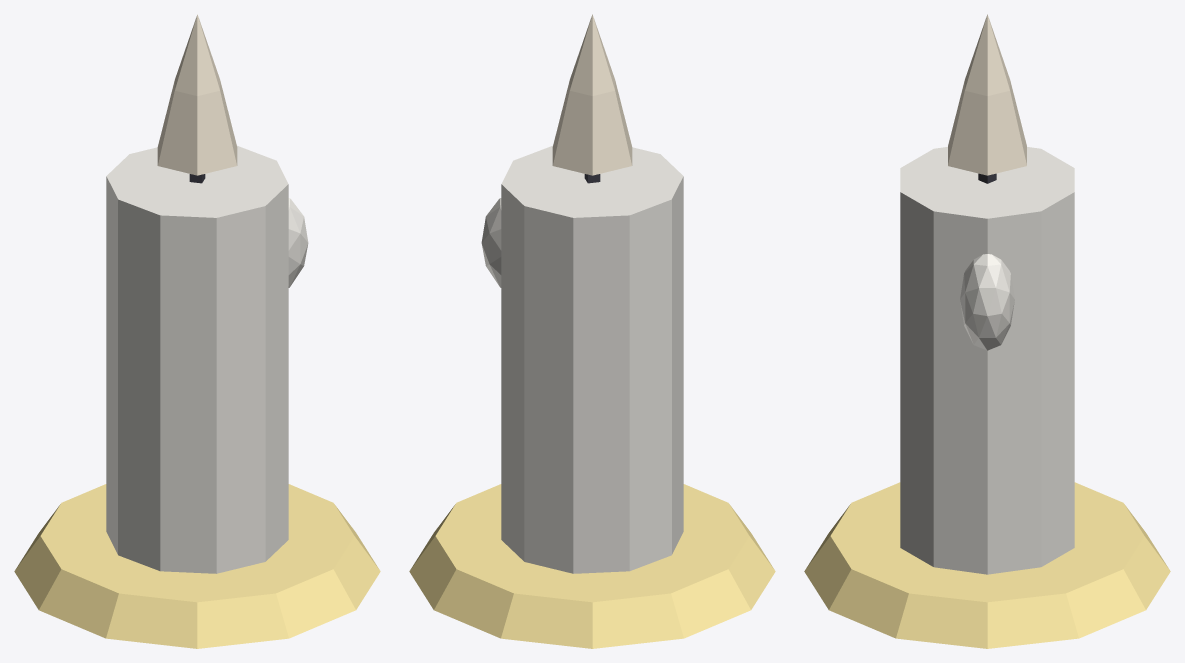
Rendered from deco_candle.obj.
The picture shows the model from 3 angles, left to right: view 1: azimuth 30°, elevation 25°; view 2: azimuth 150°, elevation 25°; view 3: azimuth 270°, elevation 25°; orthographic projection.
Parts seen in each view (by area): view 1: deco_candle; view 2: deco_candle; view 3: deco_candle.
Boxes of the visible parts, <box> form: deco_candle: <box>14,14,380,648</box>; deco_candle: <box>409,14,775,648</box>; deco_candle: <box>804,14,1170,648</box>.
Bounding box in the file's own units: 0.028 × 0.047 × 0.028.
1 material, 1 textured.
